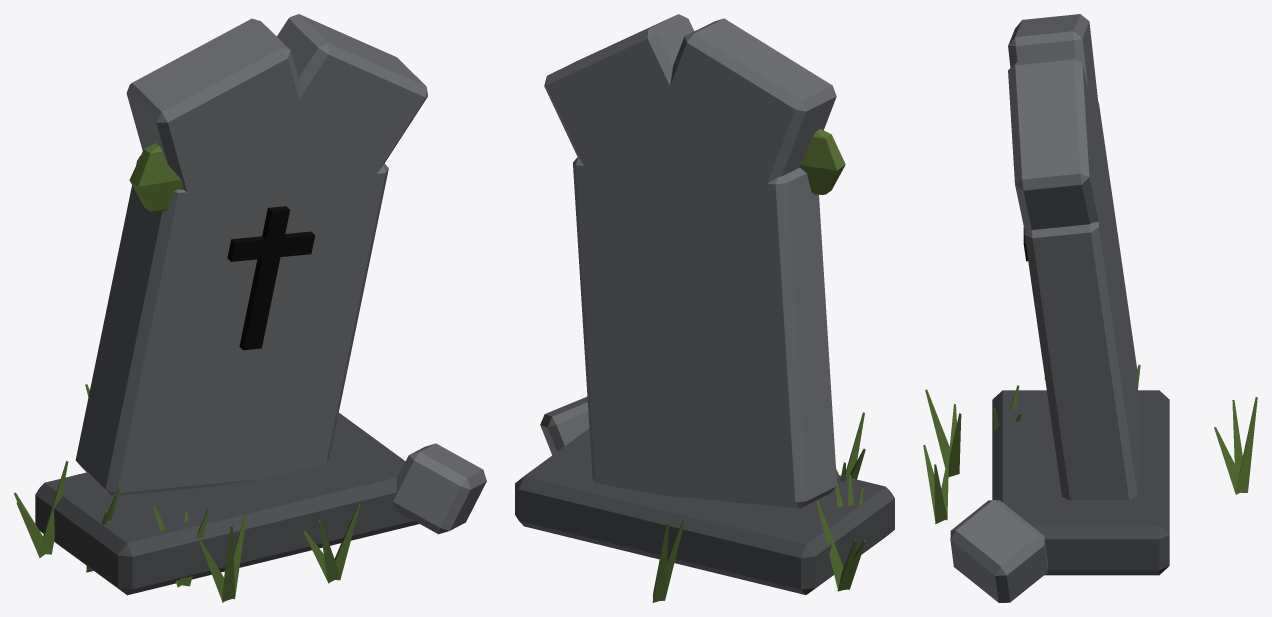
File: tombstone_b.glb
3 renders of one model, left to right at view 1: azimuth 30°, elevation 25°; view 2: azimuth 150°, elevation 25°; view 3: azimuth 270°, elevation 25°, orthographic. The views are drawn at different scales.
Visible parts, largest first — view 1: TombstoneB; view 2: TombstoneB; view 3: TombstoneB.
Boxes of the visible parts, x1=… form: TombstoneB: x1=14, y1=14, x2=486, y2=602; TombstoneB: x1=515, y1=14, x2=894, y2=602; TombstoneB: x1=923, y1=14, x2=1257, y2=602.
Bounding box in the file's own units: 0.6447 × 0.8004 × 0.4907.
